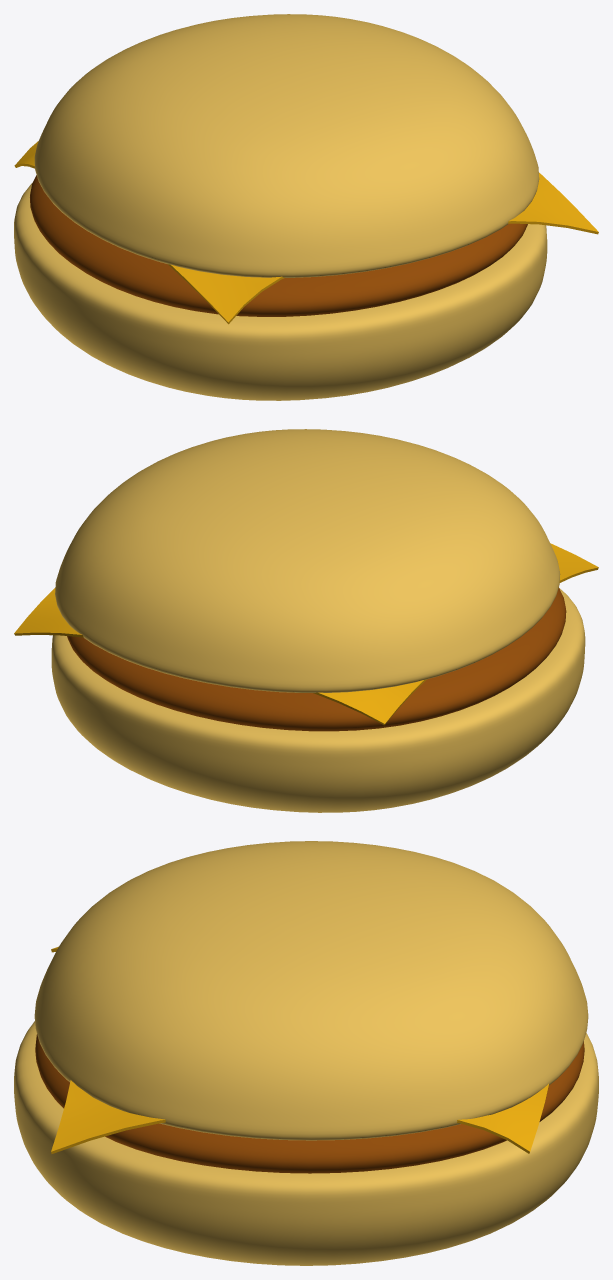
The model's file is hamburger.glb.
3 renders of one model, top to bottom at view 1: azimuth 30°, elevation 25°; view 2: azimuth 150°, elevation 25°; view 3: azimuth 270°, elevation 25°, orthographic. The views are drawn at different scales.
Visible parts, largest first — view 1: topBun, bottomBun, meat, cheese; view 2: topBun, bottomBun, meat, cheese; view 3: topBun, bottomBun, meat, cheese.
Part boxes in pixels (x1=…): topBun: x1=34, y1=14, x2=539, y2=277; bottomBun: x1=14, y1=182, x2=547, y2=400; meat: x1=30, y1=175, x2=527, y2=316; cheese: x1=14, y1=141, x2=598, y2=324; topBun: x1=55, y1=429, x2=560, y2=692; bottomBun: x1=51, y1=588, x2=585, y2=812; meat: x1=67, y1=588, x2=566, y2=731; cheese: x1=14, y1=543, x2=598, y2=725; topBun: x1=34, y1=841, x2=588, y2=1140; bottomBun: x1=14, y1=1021, x2=598, y2=1265; meat: x1=35, y1=1034, x2=584, y2=1173; cheese: x1=51, y1=946, x2=549, y2=1153.
Size of the model in its own units: 1.83 by 1.05 by 1.83.
